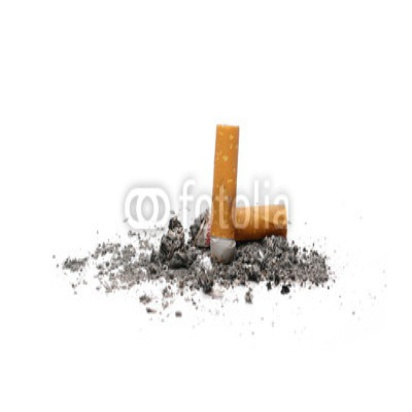cigarette: (205, 115, 246, 272)
